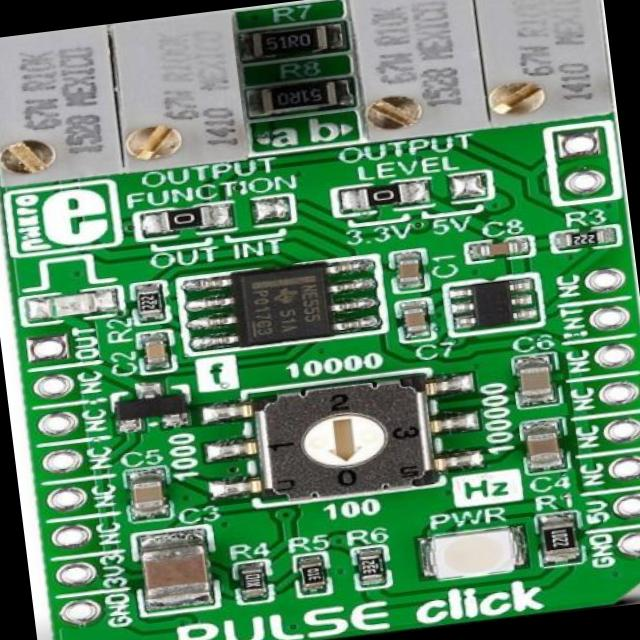IC: (205, 255, 376, 352), (452, 278, 536, 336)
LED: (424, 522, 524, 587), (37, 288, 114, 318)
capacitor: (135, 538, 214, 612), (508, 357, 558, 412), (522, 423, 568, 473), (470, 232, 534, 264), (394, 298, 432, 347), (128, 470, 166, 516), (141, 336, 178, 372), (393, 253, 425, 292)
potentiometer: (223, 368, 482, 514)
resistor: (250, 18, 338, 59), (256, 77, 344, 114), (160, 201, 226, 240), (538, 512, 586, 563), (351, 543, 394, 595), (292, 549, 334, 601), (352, 174, 410, 210), (228, 562, 272, 608), (555, 224, 616, 253), (135, 283, 167, 325)
transistor: (111, 383, 188, 429)
